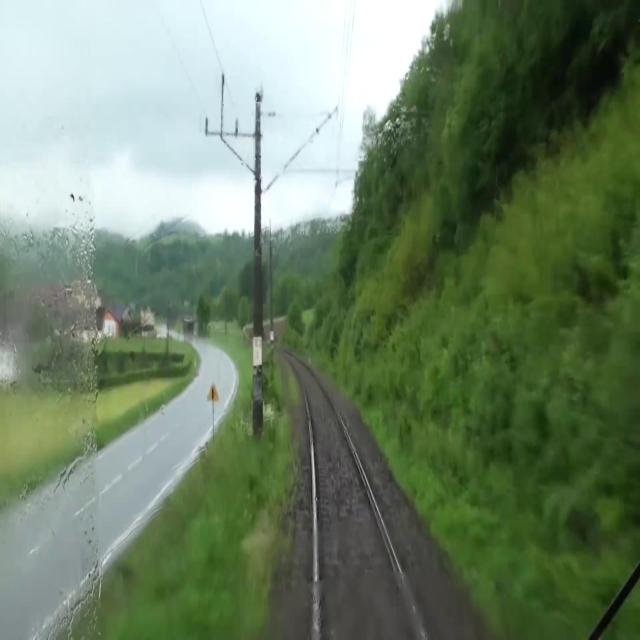rail-track: (290, 357, 423, 639)
